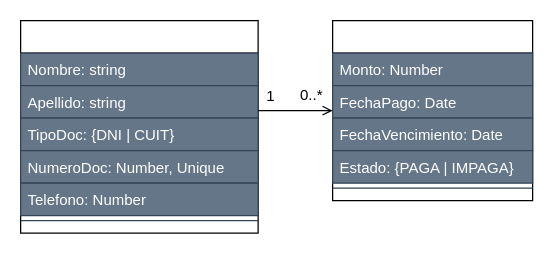
This 554x254 diagram has some shape labels left out. The shapes that lost their labels are listed below. From the top down, each one's box as (x1, y1, x2, y2) in pixels, then its label:
(19, 19, 258, 233): Socio
(331, 19, 533, 201): Cuota
